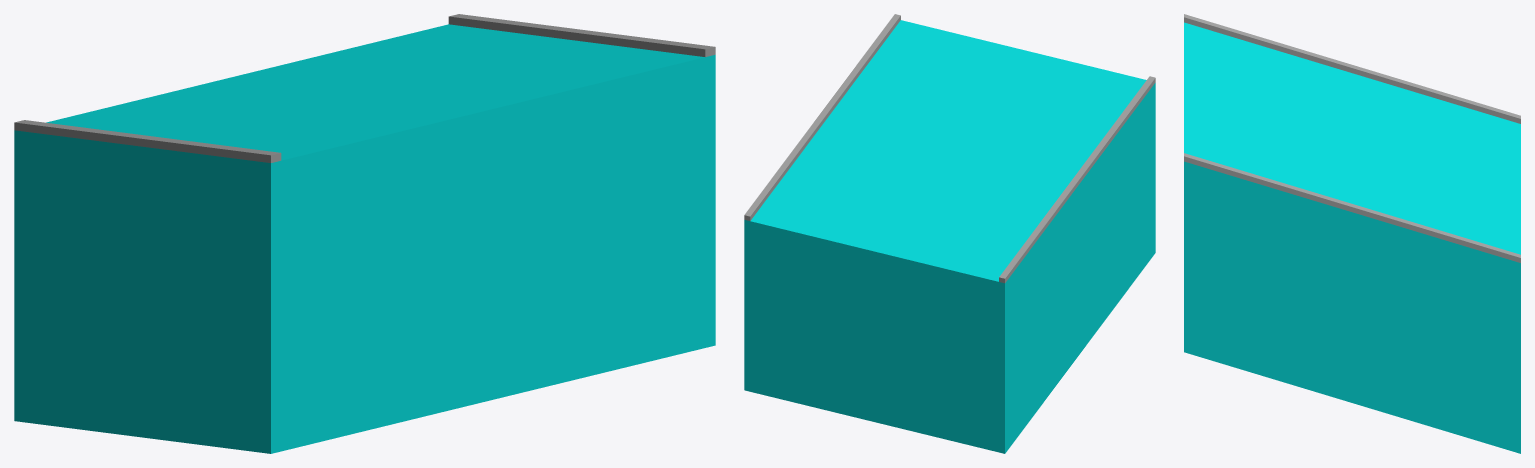
File: Pente.fbx
3 renders of one model, left to right at view 1: azimuth 30°, elevation 25°; view 2: azimuth 150°, elevation 25°; view 3: azimuth 270°, elevation 25°, orthographic. The views are drawn at different scales.
Visible parts, largest first — view 1: Descente; view 2: Descente; view 3: Descente.
Part boxes in pixels (box(x1,y1,x2,y2)): Descente: box(14, 14, 715, 453); Descente: box(744, 14, 1155, 453); Descente: box(1184, 14, 1520, 453).
Size of the model in its own units: 800 by 780 by 800.
